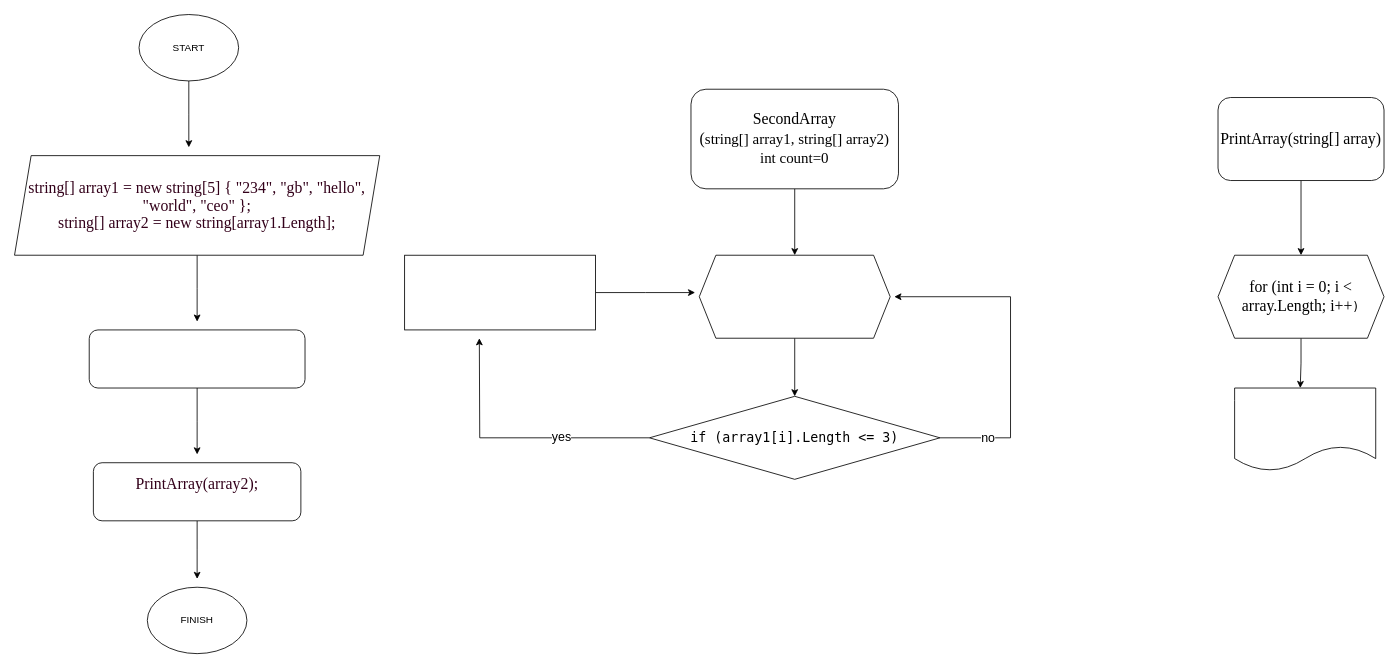
This 1399x668 diagram has some shape labels left out. Each missing label, with the box of its shape:
array2[count]=array1[i] i++: (404, 254, 596, 330)
for (int i = 0; i < array1.Length; i++: (698, 254, 890, 338)
Print string [] array2: (1234, 387, 1376, 471)
SecondArray(array1, array2);: (88, 329, 305, 388)
